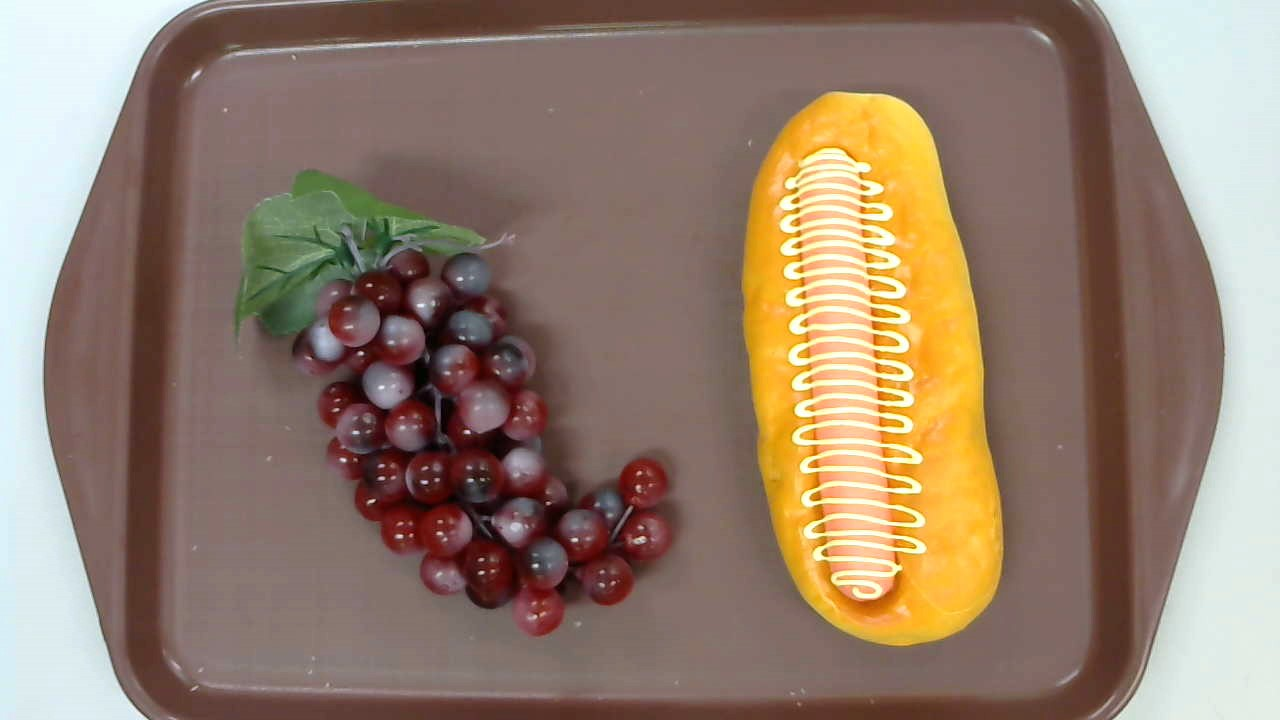grape: (235, 170, 671, 637)
hot dog: (741, 92, 1005, 648)
